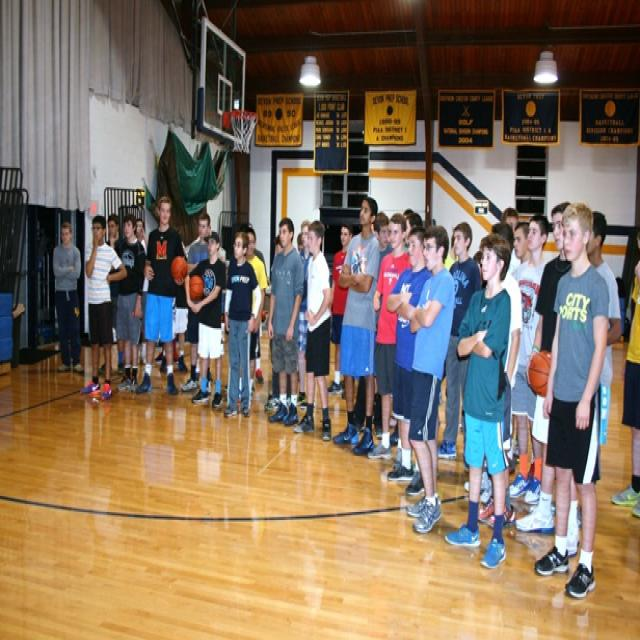body: (531, 198, 611, 602), (441, 230, 513, 574), (515, 198, 582, 558), (566, 206, 624, 528), (403, 222, 457, 536), (474, 218, 524, 531), (384, 224, 434, 499), (330, 194, 382, 456), (364, 210, 414, 472), (436, 219, 484, 474), (508, 211, 549, 507), (132, 192, 189, 397), (291, 218, 334, 443), (80, 211, 129, 402), (610, 222, 640, 520), (265, 214, 305, 429), (182, 229, 226, 411), (222, 227, 263, 421), (112, 211, 148, 394), (180, 211, 213, 397), (51, 219, 86, 376), (157, 208, 188, 374), (372, 210, 394, 438), (326, 222, 354, 398), (295, 218, 318, 411), (244, 224, 269, 400), (245, 226, 268, 387), (104, 213, 126, 341), (134, 216, 150, 368), (264, 338, 293, 410), (497, 205, 522, 277), (216, 242, 231, 362), (458, 462, 497, 504), (384, 392, 406, 466), (401, 205, 424, 253), (510, 219, 532, 264), (272, 229, 306, 256), (471, 233, 487, 284), (152, 336, 178, 365), (443, 230, 458, 270), (193, 349, 202, 381)
